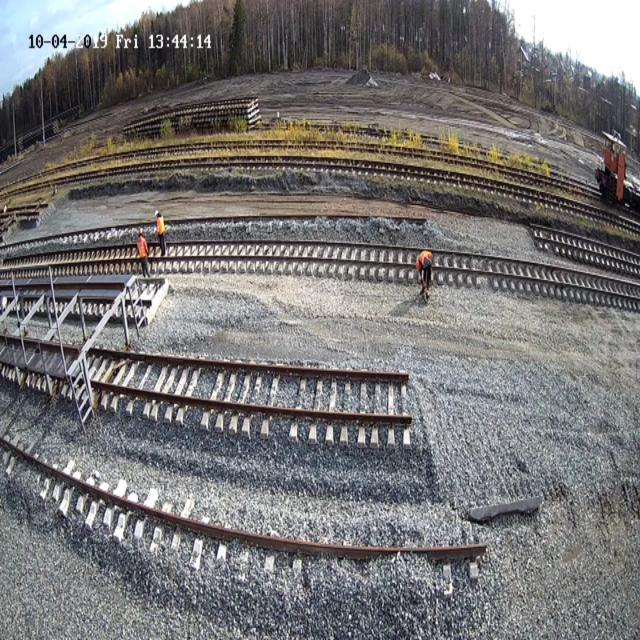Person: (416, 250, 433, 301), (136, 227, 150, 278), (154, 210, 167, 256)
